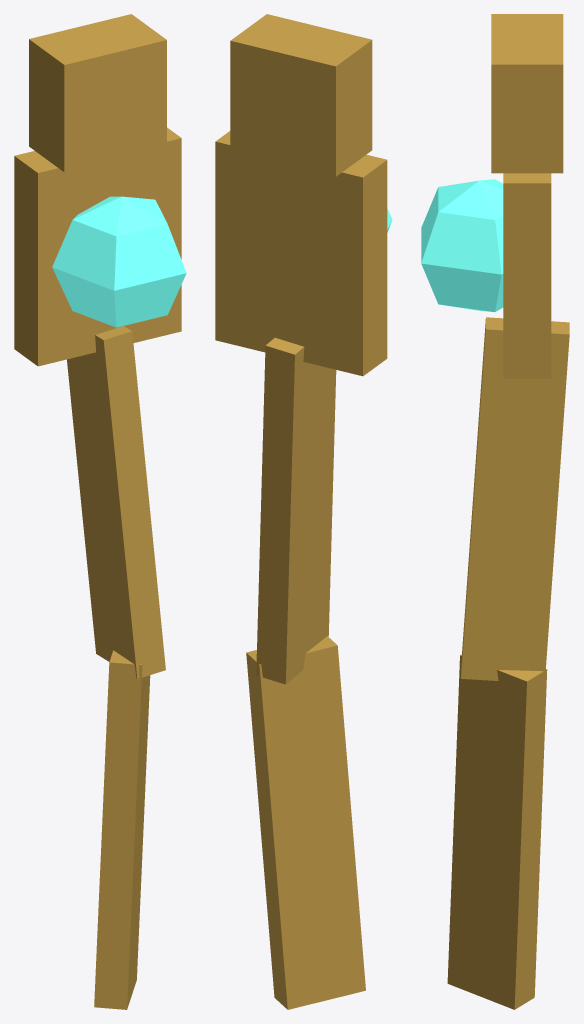
File: gear_norigae_t3_L.glb
3 views of the same model, side by side, from view 1: azimuth 30°, elevation 25°; view 2: azimuth 150°, elevation 25°; view 3: azimuth 270°, elevation 25° (orthographic). The views are drawn at different scales.
Parts seen in each view (by area): view 1: gear_norigae_t3_L; view 2: gear_norigae_t3_L; view 3: gear_norigae_t3_L.
Part boxes in pixels (x1,y1,x2,y2): gear_norigae_t3_L: (14, 14, 186, 1009); gear_norigae_t3_L: (215, 14, 392, 1009); gear_norigae_t3_L: (421, 14, 569, 1009).
Bounding box in the file's own units: 0.07 × 0.4394 × 0.0619.
